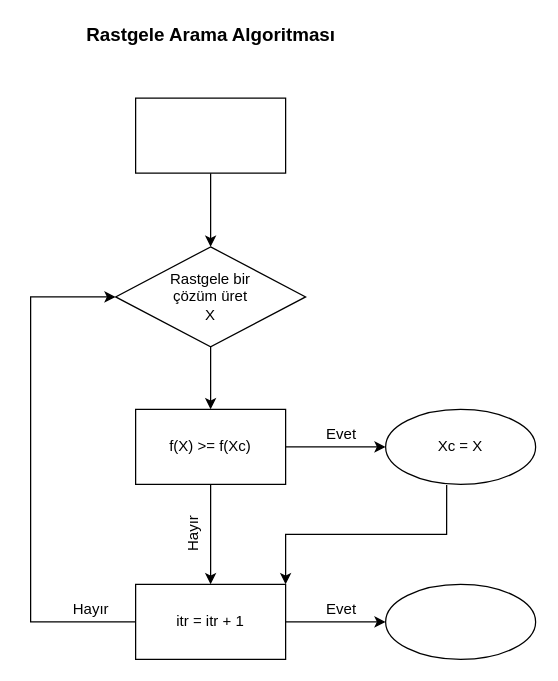
This 558x681 diagram has some shape labels left out. Each missing label, with the centre of its shape:
DUR: (460,621)
Rastgele bir X çözüm üret "Xc": (210,135)
